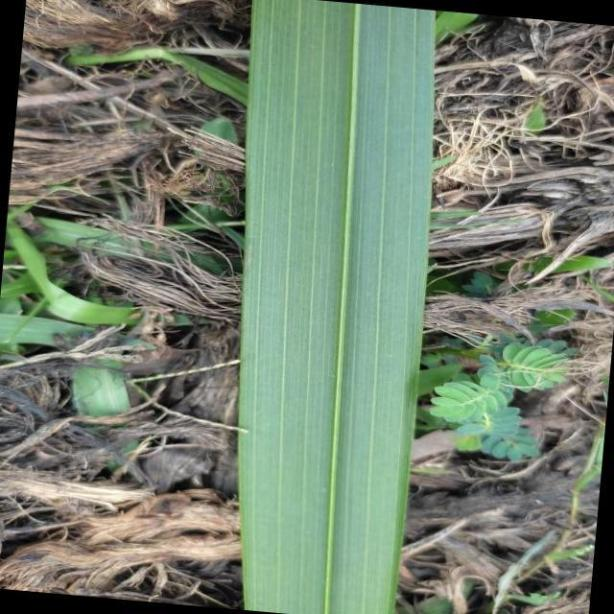Healthy: (240, 0, 436, 614)
